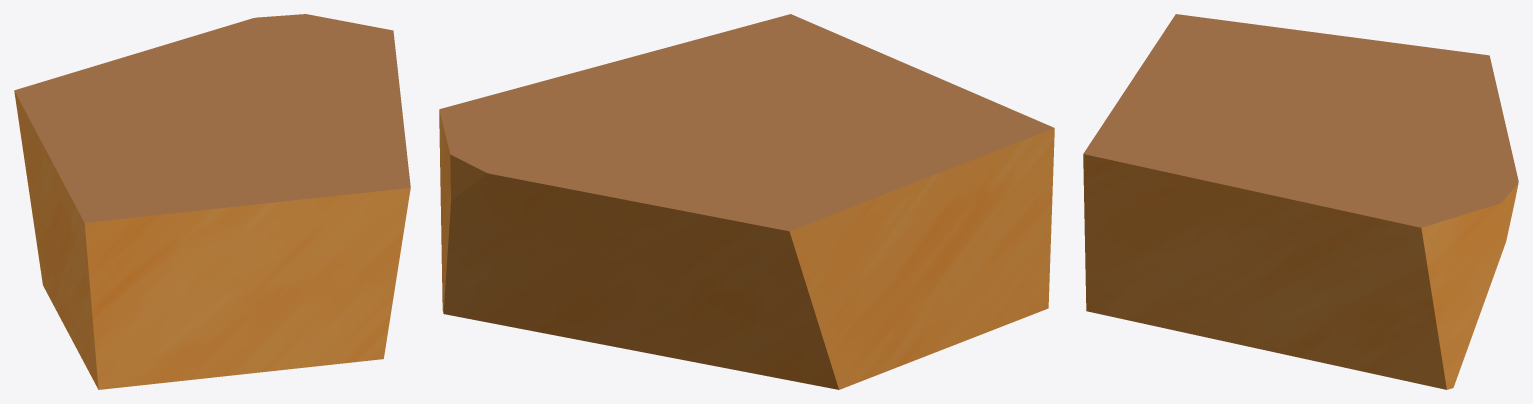
The model's file is vat_saffron_s01.fbx.
The picture shows the model from 3 angles, left to right: view 1: azimuth 30°, elevation 25°; view 2: azimuth 150°, elevation 25°; view 3: azimuth 270°, elevation 25°; orthographic projection. The views are drawn at different scales.
Visible parts, largest first — view 1: vat_saffron_s01; view 2: vat_saffron_s01; view 3: vat_saffron_s01.
Part boxes in pixels (bbox=[...]): vat_saffron_s01: bbox=[14, 14, 410, 389]; vat_saffron_s01: bbox=[439, 14, 1054, 389]; vat_saffron_s01: bbox=[1083, 14, 1518, 389].
Size of the model in its own units: 3.21 by 1.19 by 2.76.
